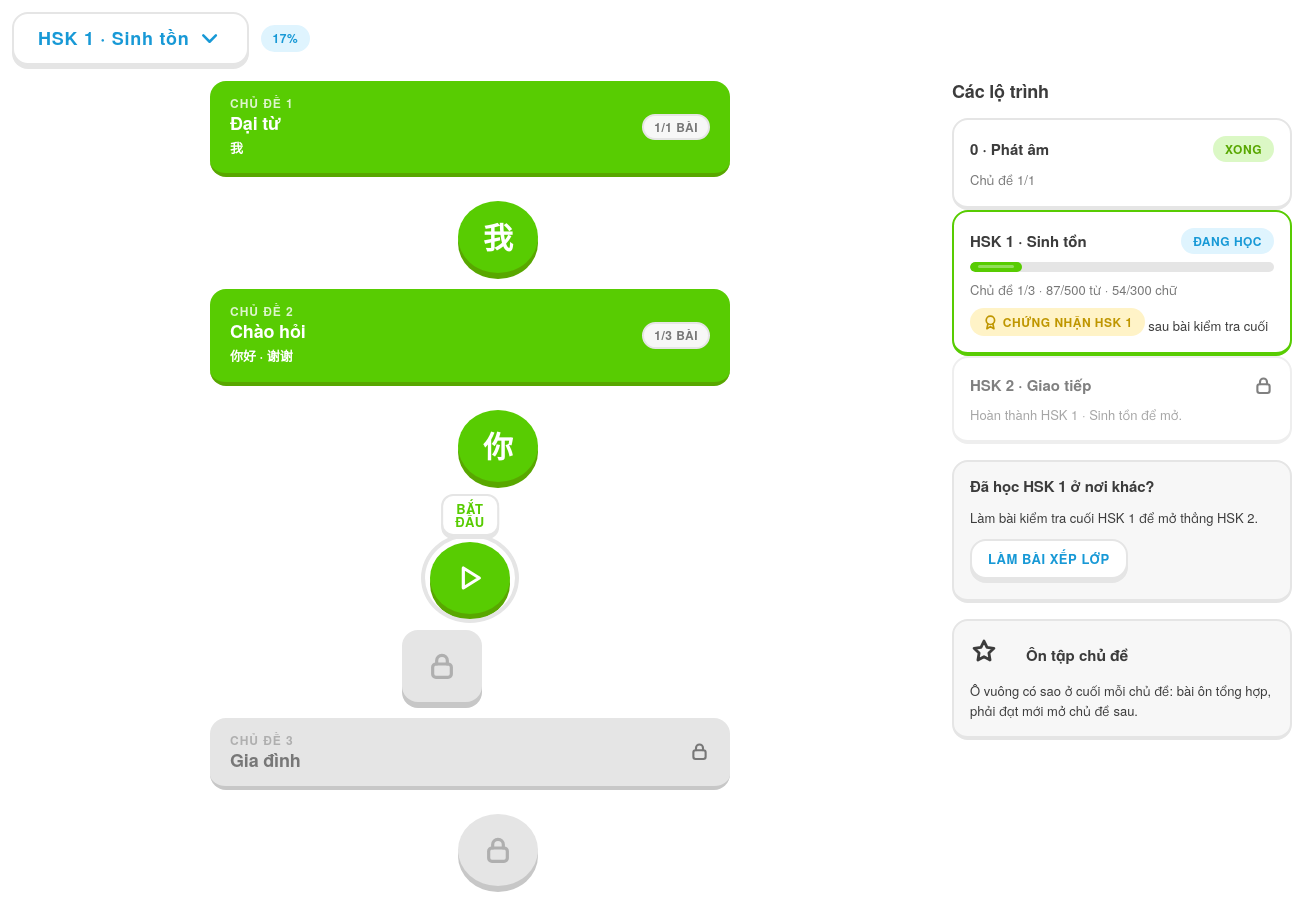
Scenario: PathView › bấm bài khóa → toast theo lý do, không mở bài
Click the button named "Bài 3: Tạm biệt, bị khóa".
click(442, 666)  # box [402,630,482,702]
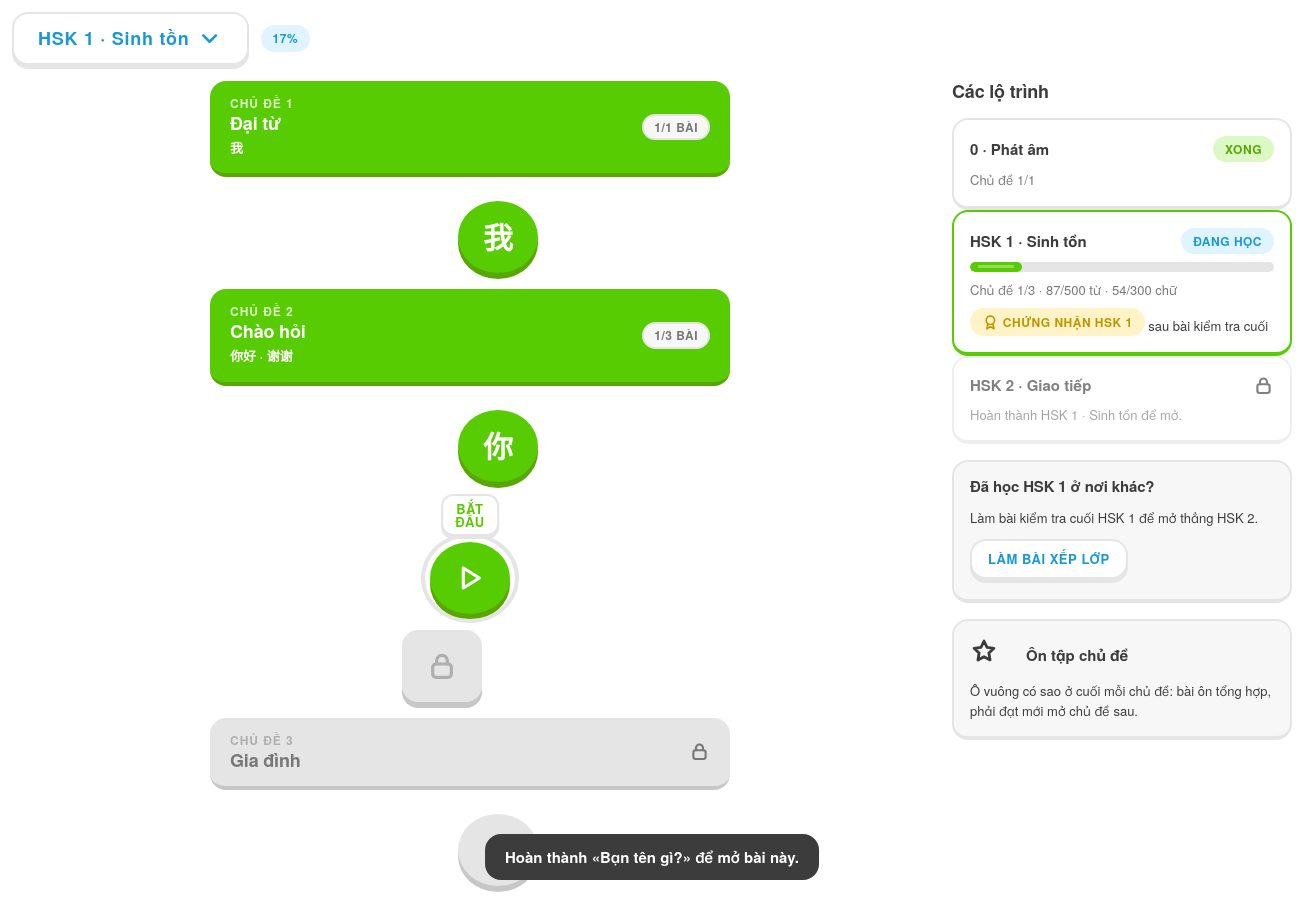
Result: the message reads "Hoàn thành «Bạn tên gì?» để mở bài này." at [505,846,799,868]
